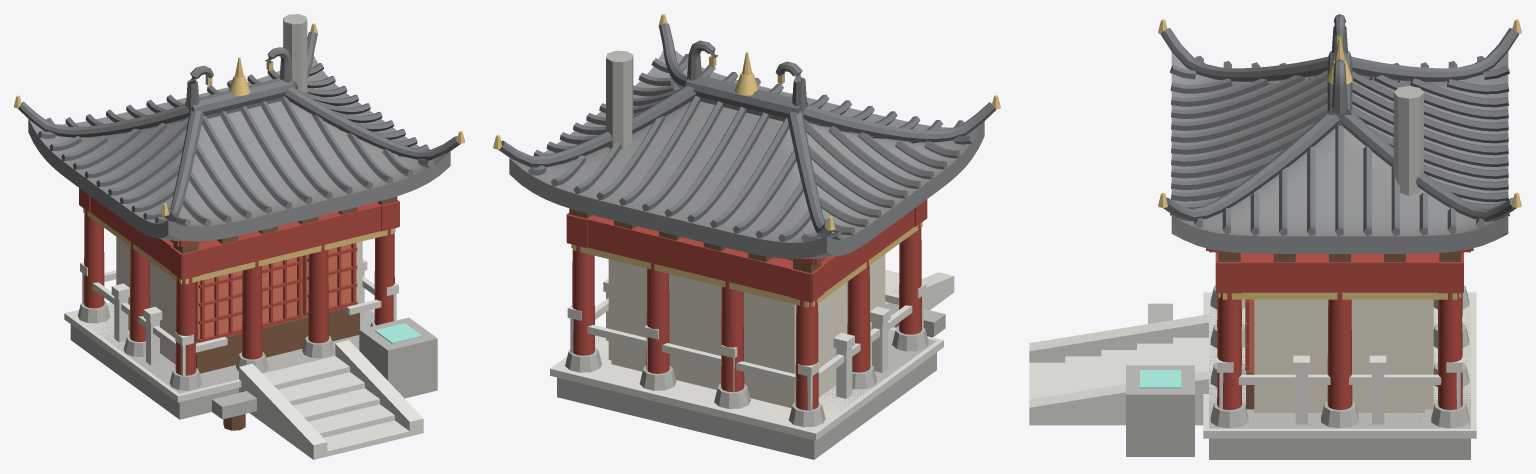
File: SonMon_forge.fbx
3 renders of one model, left to right at view 1: azimuth 30°, elevation 25°; view 2: azimuth 150°, elevation 25°; view 3: azimuth 270°, elevation 25°, orthographic. The views are drawn at different scales.
Visible parts, largest first — view 1: forge; view 2: forge; view 3: forge.
Boxes of the visible parts, x1,y1,x2,y2 form: forge: [14, 14, 464, 459]; forge: [493, 14, 1000, 459]; forge: [1029, 14, 1521, 459].
Bounding box in the file's own units: 3.06 × 2.83 × 3.57.
